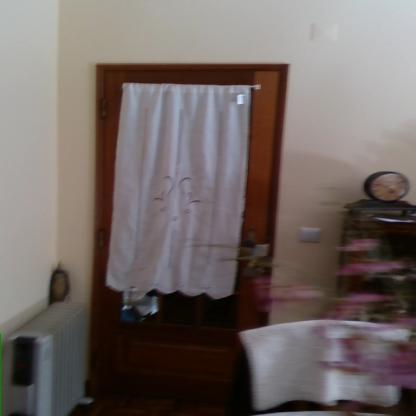closed: (77, 53, 293, 406)
